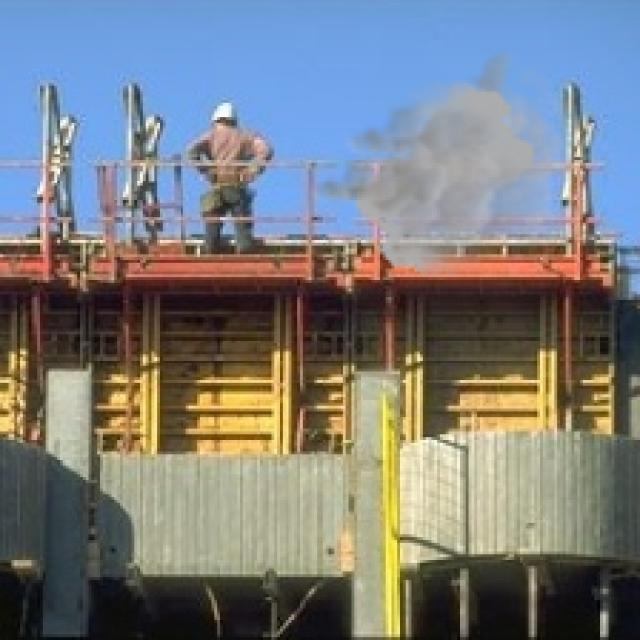Smoke: (303, 48, 572, 280)
